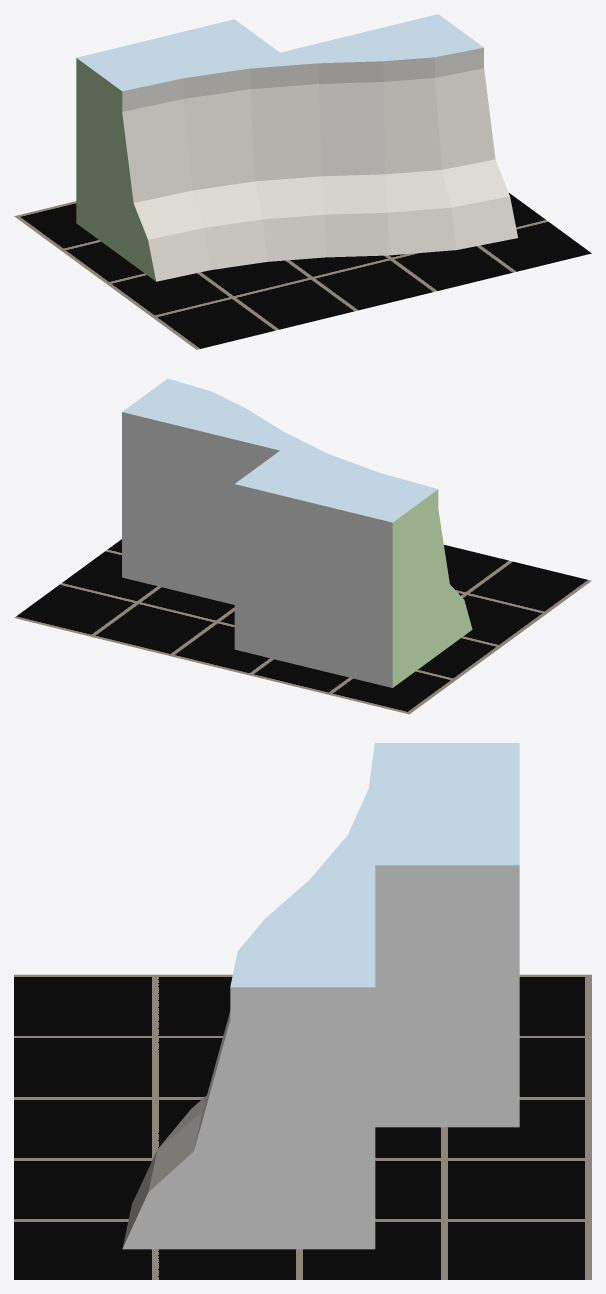
The model's file is Wall_Esse_3x4_Base.glb.
The picture shows the model from 3 angles, top to bottom: view 1: azimuth 30°, elevation 25°; view 2: azimuth 150°, elevation 25°; view 3: azimuth 270°, elevation 25°; orthographic projection. The views are drawn at different scales.
Visible parts, largest first — view 1: Wall_Esse_3x4_Base, Floor; view 2: Wall_Esse_3x4_Base, Floor; view 3: Wall_Esse_3x4_Base, Floor.
Boxes of the visible parts, box(x1,y1,x2,y2) form: Wall_Esse_3x4_Base: box(76, 14, 517, 281); Floor: box(14, 193, 591, 349); Wall_Esse_3x4_Base: box(122, 378, 472, 687); Floor: box(14, 539, 591, 714); Wall_Esse_3x4_Base: box(122, 743, 519, 1249); Floor: box(14, 974, 591, 1279).
Bounding box in the file's own units: 500 × 200 × 400.
5 materials, 1 textured.
